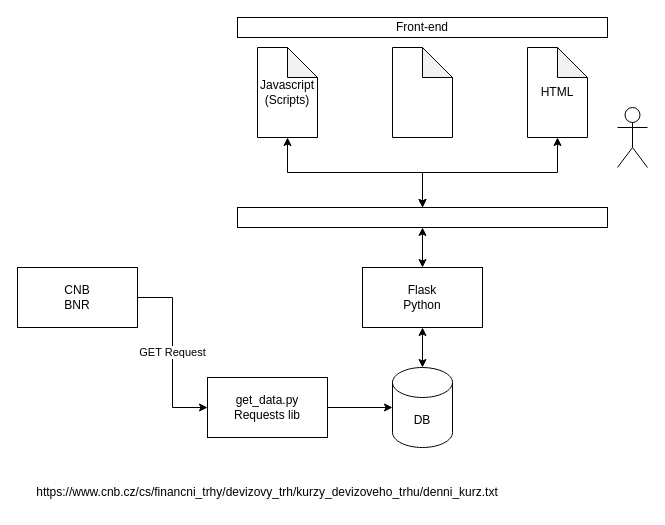
Some shapes in this 665 by 525 pixel diagram are drawn without their labels. Here are the shapes that lost their labels. From the top down, the centre of each, then its label:
At [422,92]: "CSS (Style)".
At [632,137]: "User".
At [422,217]: "Back-end".
